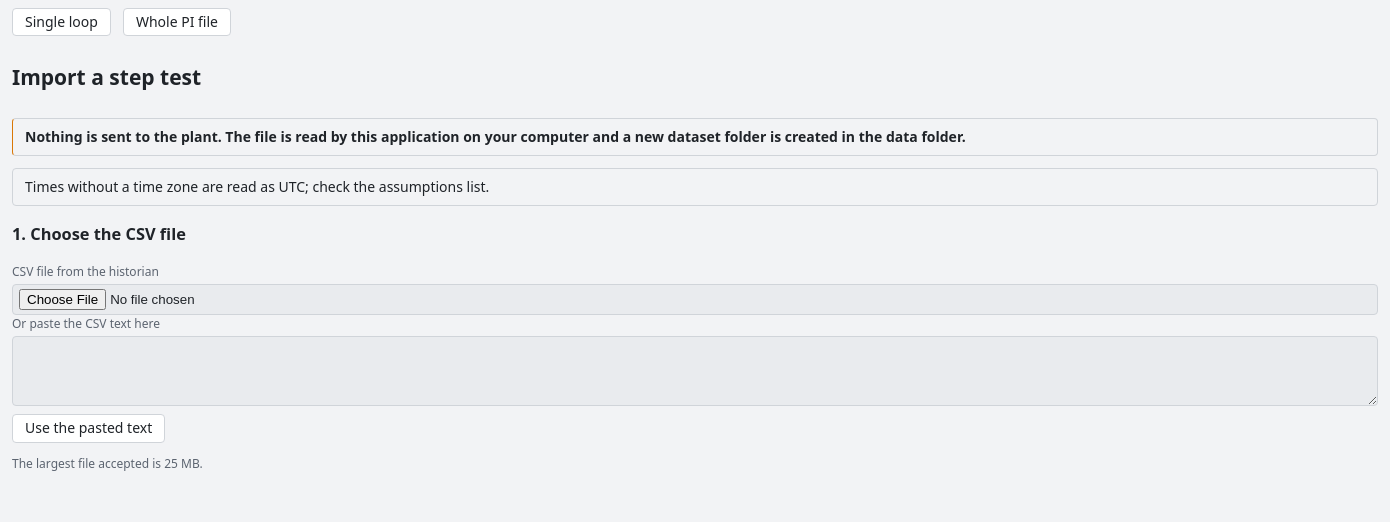
Test: notes and preview › shows a translated message when the file is refused with 413
Step 1. Type "a;b" into the text box labelled "Or paste the CSV text here" → (695, 371), box left=12, top=336, right=1378, bottom=406
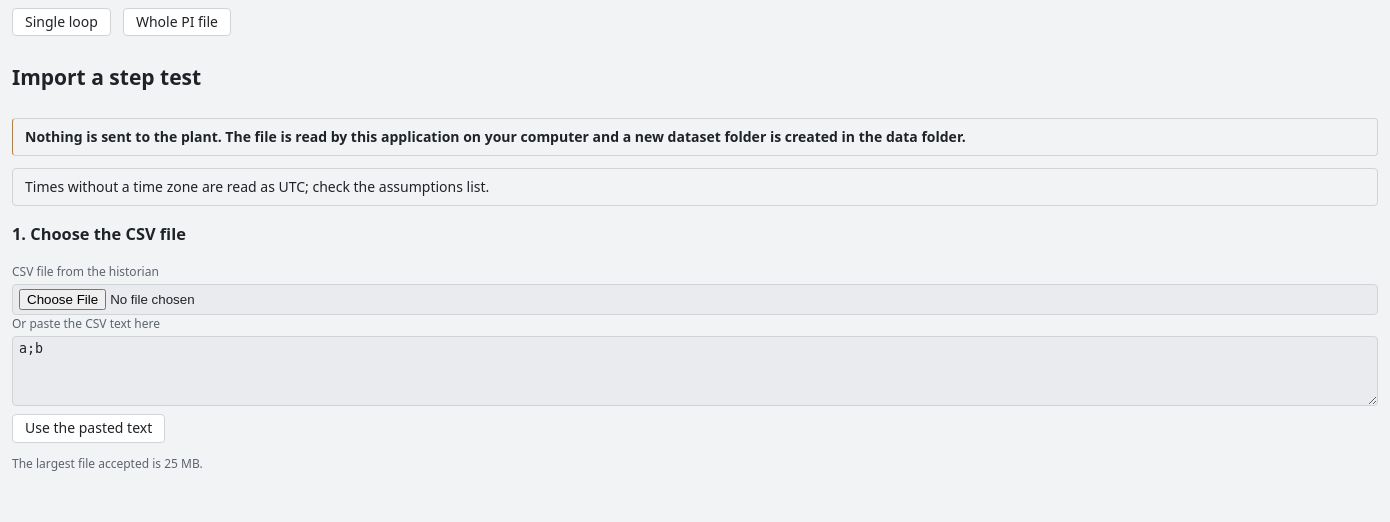
Step 2. Click the button "Use the pasted text" → (89, 429), box left=12, top=414, right=165, bottom=443
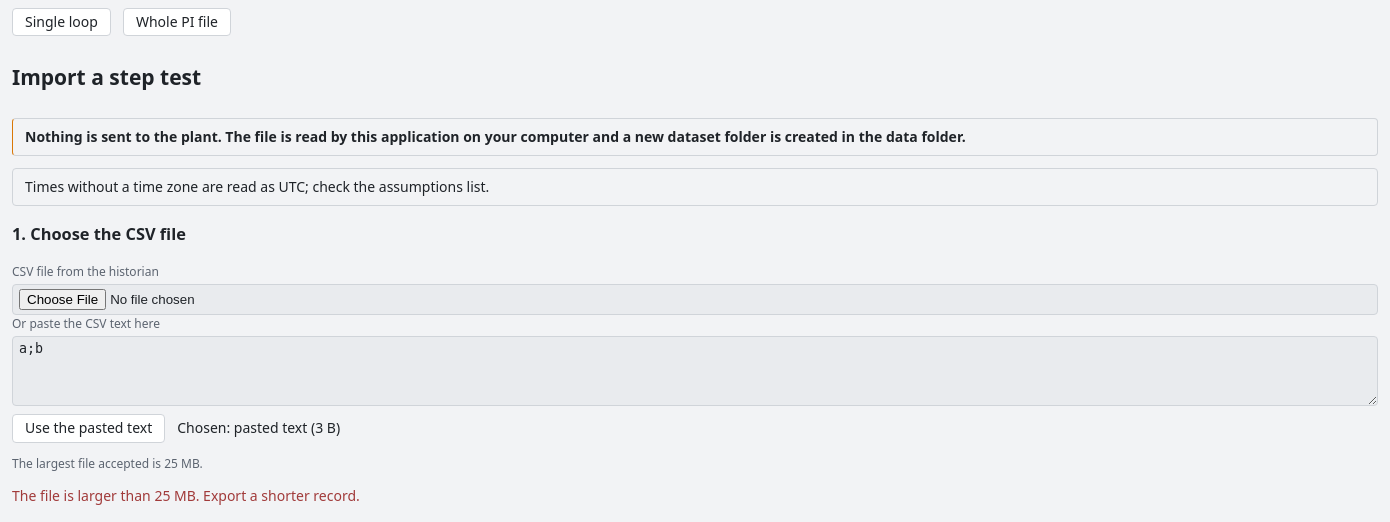
Expected: the message shows "larger than 25 MB. Export a shorter record.", left=12, top=486, right=360, bottom=505
